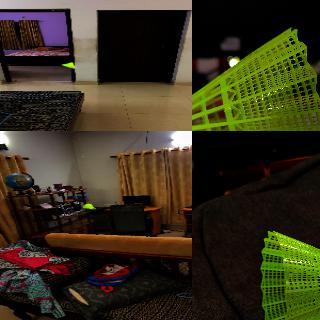shuttlecock: (192, 25, 319, 130), (261, 230, 319, 319), (61, 61, 76, 69), (84, 203, 95, 209)
